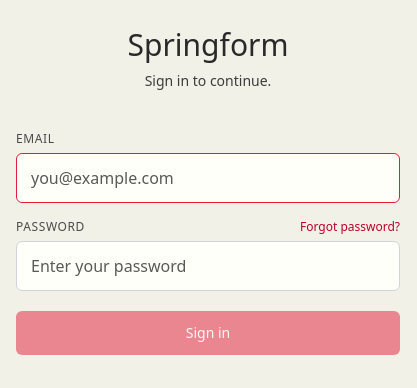
Scenario: LoginPage › explains a wrong password without leaving the page
The width and height of the screenshot is (417, 388).
Type "m@example.com" into the field labelled "Email".
click(208, 178); type("m@example.com")  # box x1=16 y1=153 x2=400 y2=203
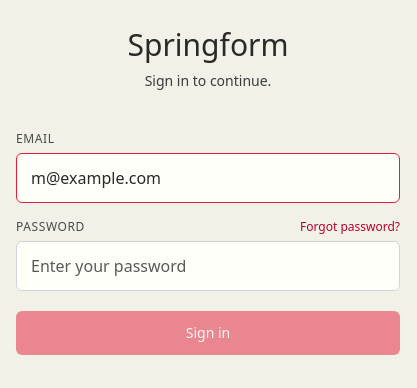
Type "secret-pass" into the password field labelled "Password".
click(208, 266); type("secret-pass")  # box x1=16 y1=241 x2=400 y2=291
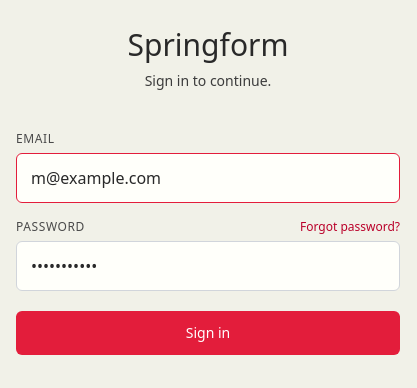
Click the button "Sign in".
click(208, 333)  # box x1=16 y1=311 x2=400 y2=355
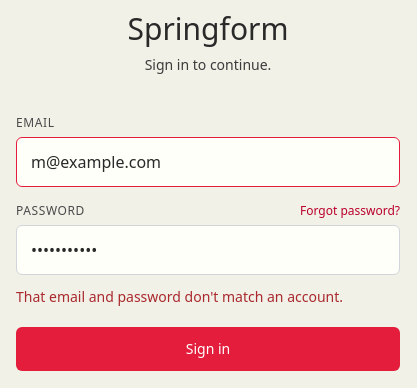
Result: the message reads "That email and password don't match an account." at x1=16 y1=287 x2=343 y2=306
